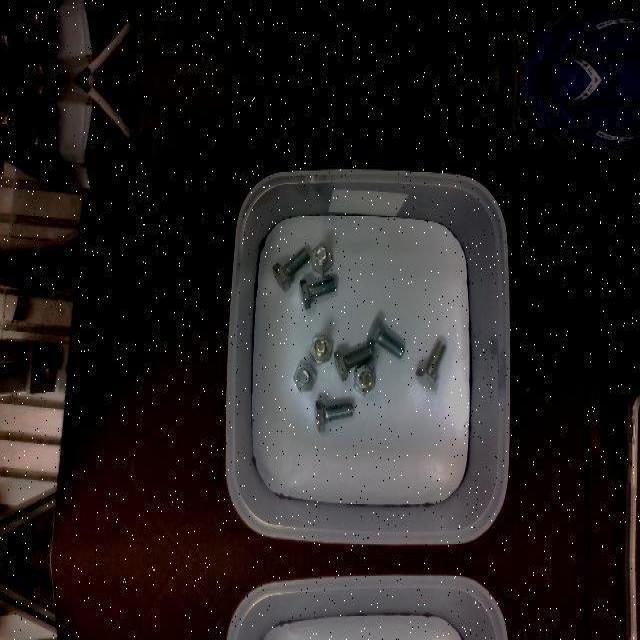screw: (272, 248, 310, 292), (366, 316, 405, 358), (416, 340, 447, 390), (334, 345, 373, 381), (315, 398, 354, 432), (299, 278, 336, 310), (292, 363, 316, 393), (353, 363, 375, 395), (310, 333, 333, 363), (311, 243, 332, 275)
